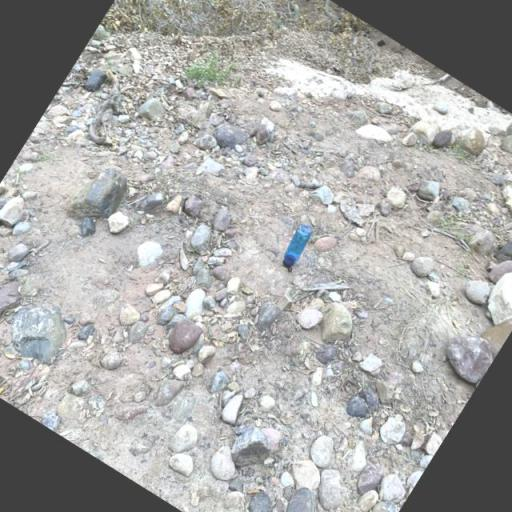bottle: (275, 222, 316, 272)
